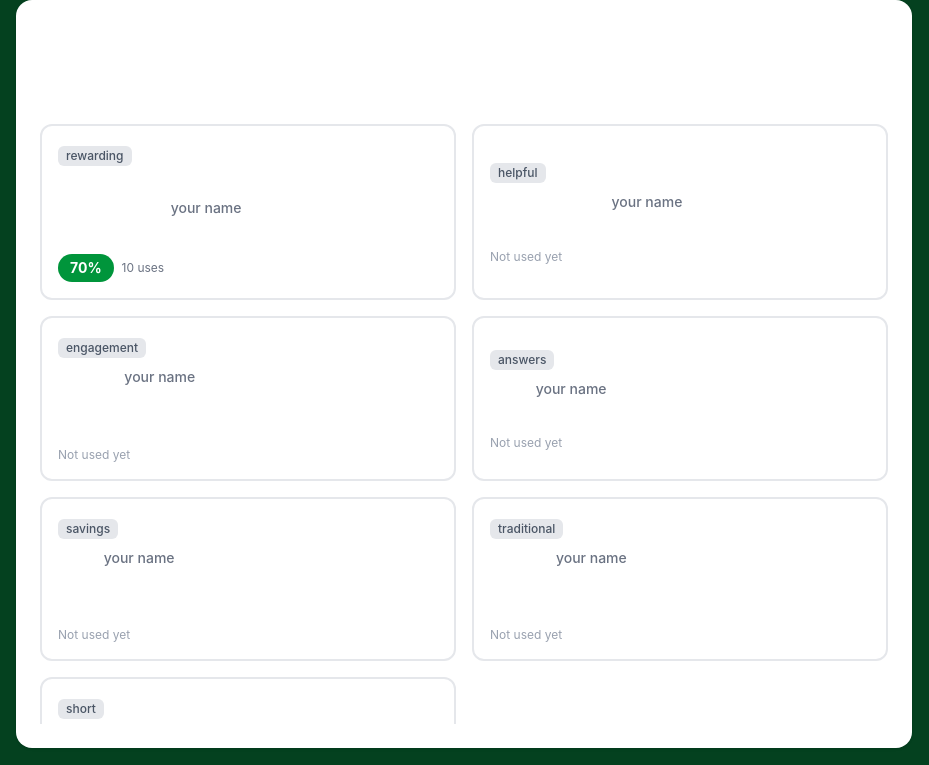
Test: PickupLineLibrary › should toggle detailed view when clicking the same line twice
Note: Click to show details
Click the text "Hi, thank you for requesting a callback" at (239,184), box [58,176,420,216]
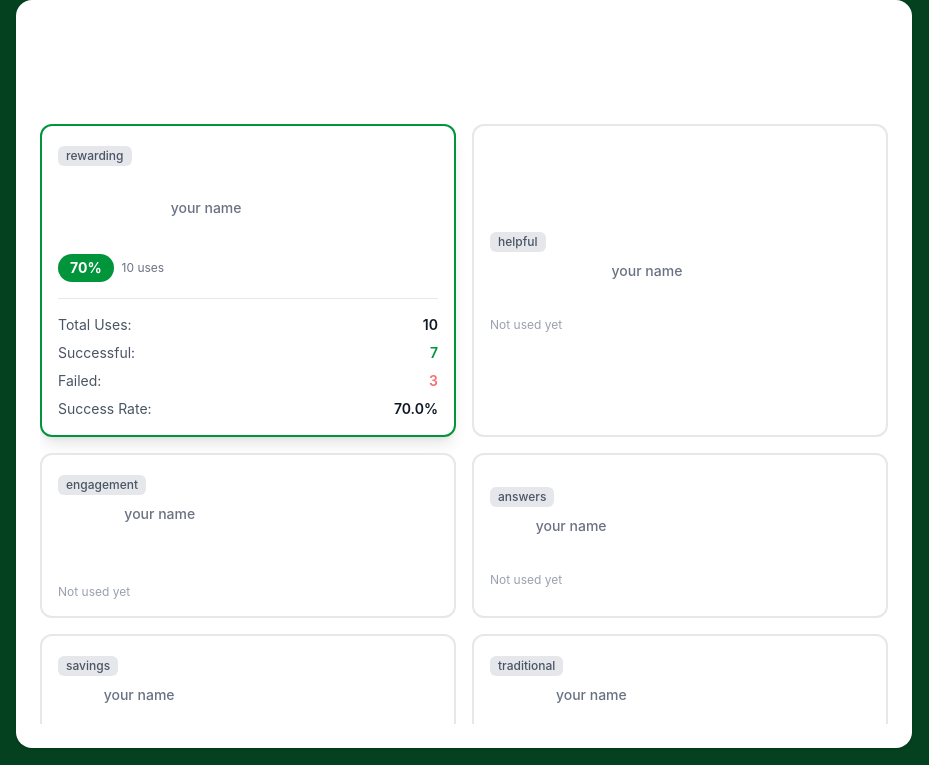
Expected: the text "Total Uses:" is shown, [58,315,132,335]
Note: Click again to hide details
Click the text "Hi, thank you for requesting a callback" at (239,184), box [58,176,420,216]
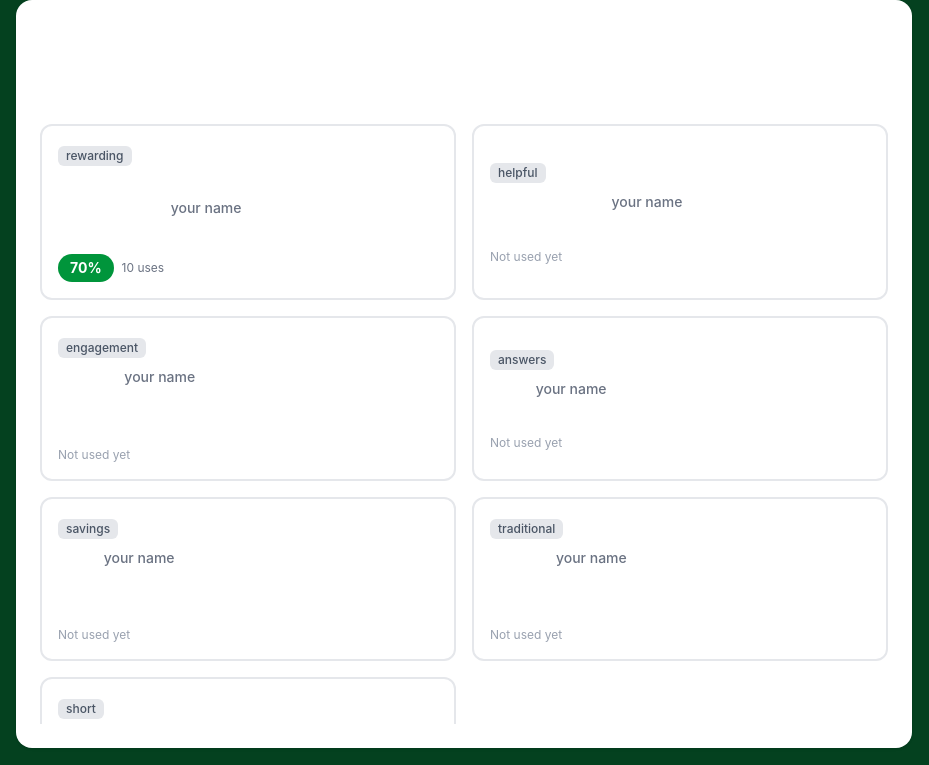
Expected: the text "Total Uses:" is gone
